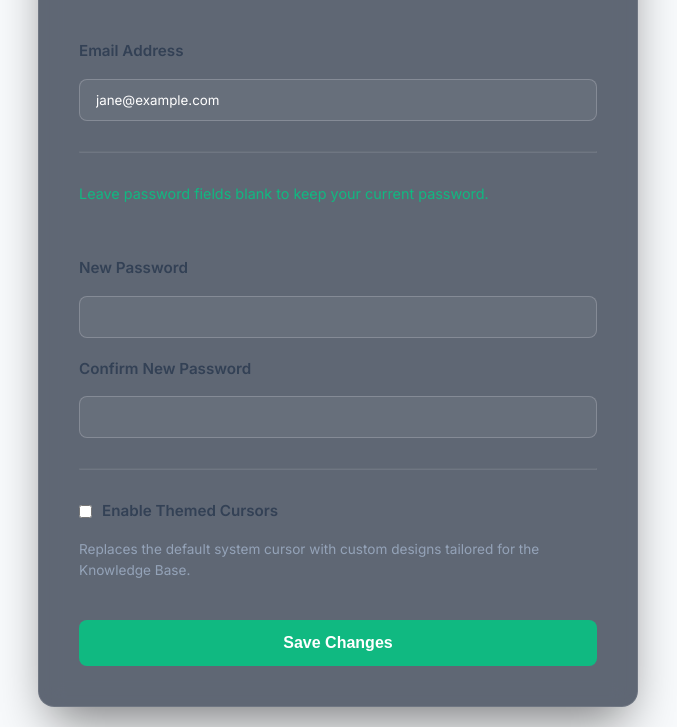
Test case: ProfileSettings – custom cursor toggle › adds theme class and persists true when toggled on
The width and height of the screenshot is (677, 727).
(page scrolled)
What coordinates should you click on to do the following:
click the checkbox
I would click on:
 (86, 512)
Its box is [79,505,92,518].
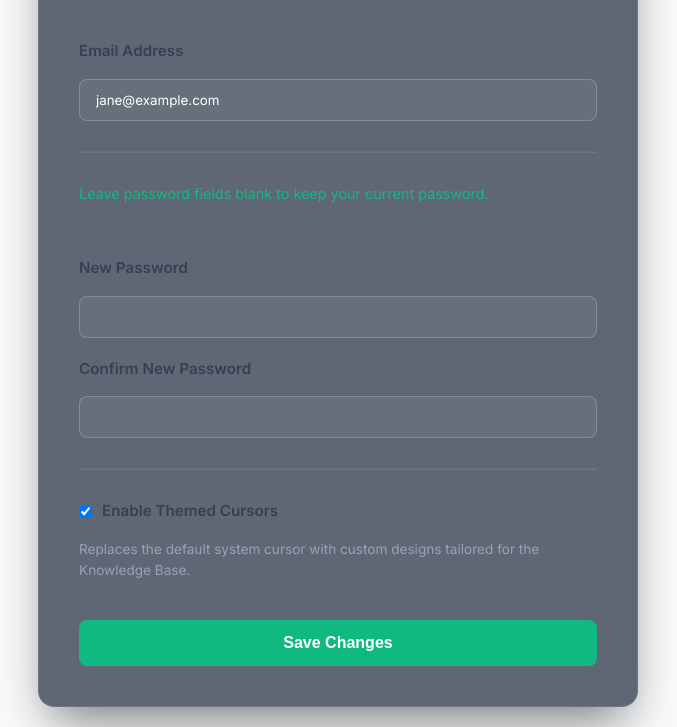
expect the checkbox is checked: met, box [79,505,92,518]
